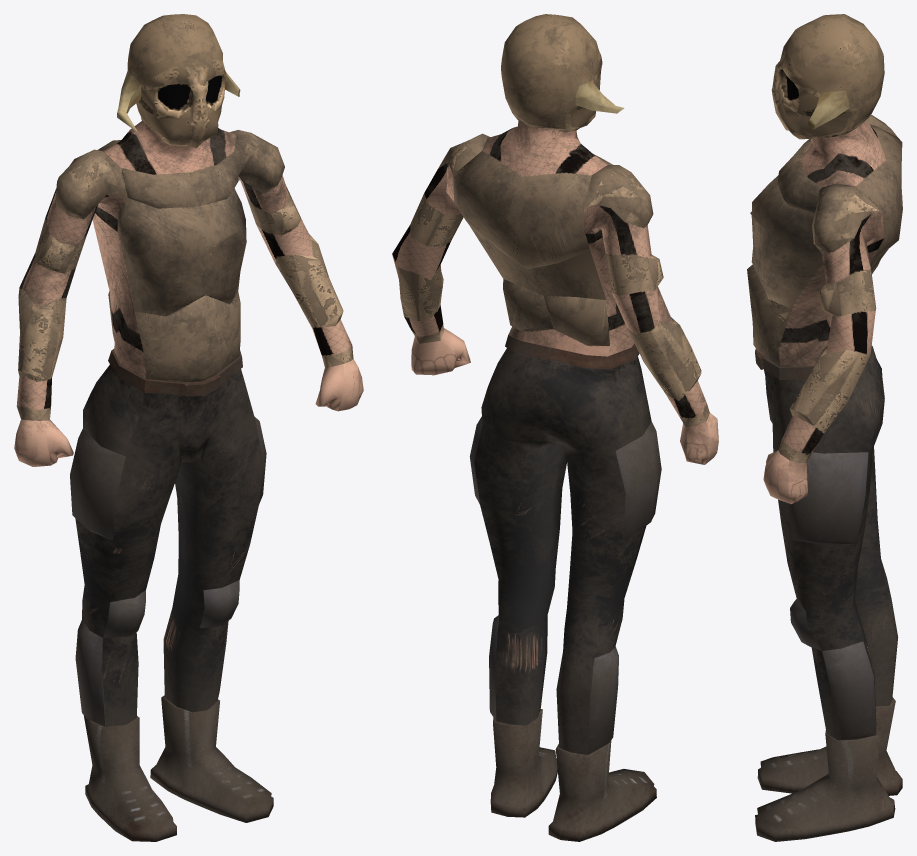
File: Anim_interruptor_npc1.0016.obj
3 renders of one model, left to right at view 1: azimuth 30°, elevation 25°; view 2: azimuth 150°, elevation 25°; view 3: azimuth 270°, elevation 25°, orthographic.
Parts seen in each view (by area): view 1: NPC2; view 2: NPC2; view 3: NPC2.
Part boxes in pixels (<box>): NPC2: <box>14,14,363,841</box>; NPC2: <box>392,14,718,841</box>; NPC2: <box>747,14,902,841</box>.
Size of the model in its own units: 4.17 by 9.65 by 1.73.
